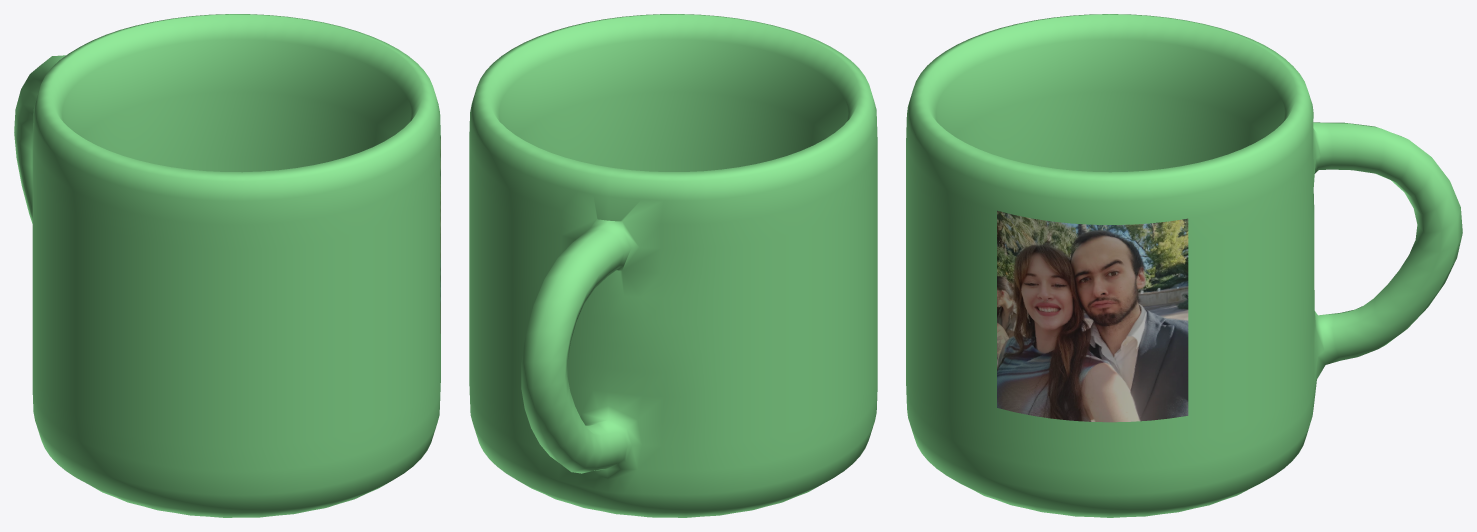
File: taza.gltf
The picture shows the model from 3 angles, left to right: view 1: azimuth 30°, elevation 25°; view 2: azimuth 150°, elevation 25°; view 3: azimuth 270°, elevation 25°; orthographic projection.
Visible parts, largest first — view 1: Círculo; view 2: Círculo; view 3: Círculo.
Boxes of the visible parts, left/top/right/bottom form: Círculo: left=14, top=14, right=440, bottom=517; Círculo: left=469, top=14, right=877, bottom=517; Círculo: left=906, top=14, right=1462, bottom=517.
Bounding box in the file's own units: 1.58 × 1.53 × 2.15.
2 materials, 1 textured.
